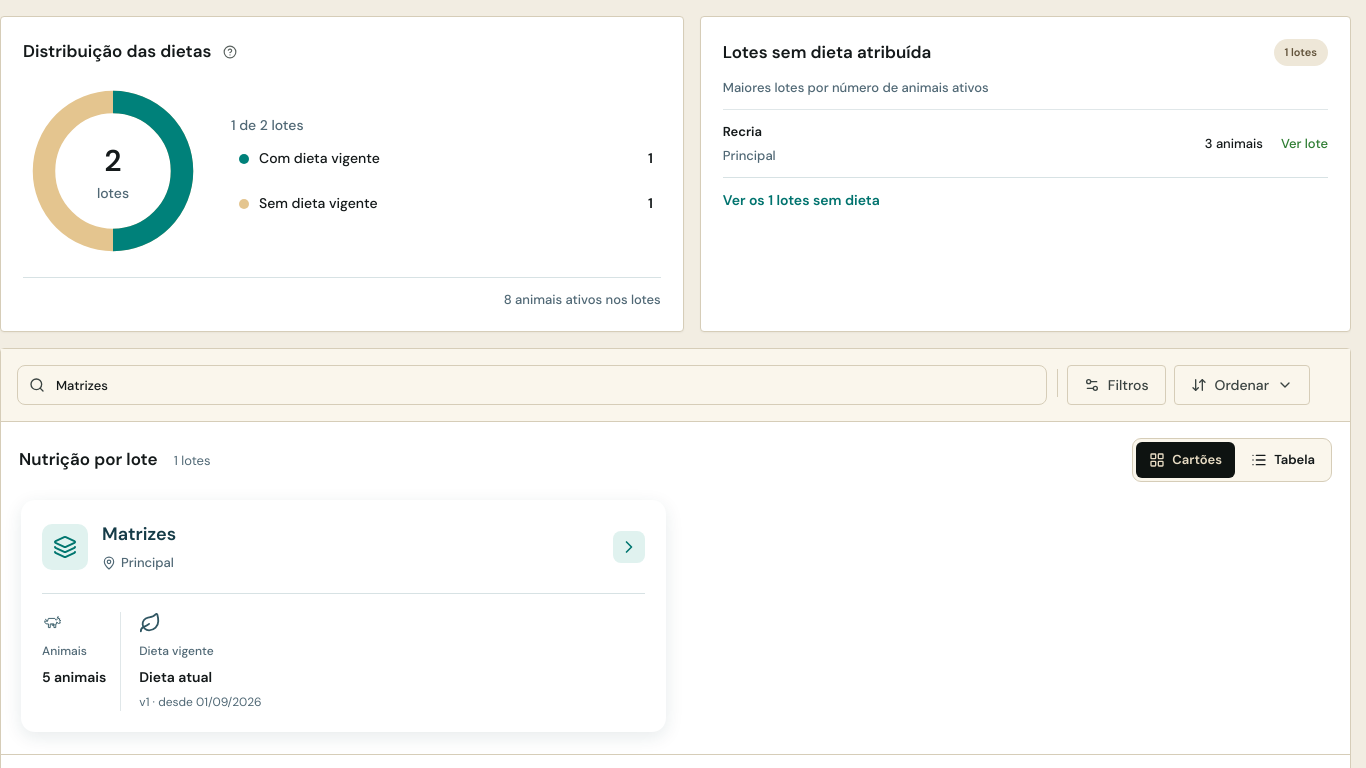
Test case: alterna cartões e tabela sem perder a busca e oculta custos sem permissão
This screenshot has width=1366, height=768.
Expected: the link "Matrizes" is shown, top-left (102, 522), bottom-right (176, 546)
Expected: the picture named "1 de 2 lotes com dieta vigente" is shown, top-left (23, 80), bottom-right (203, 260)
Step 1. Click the button "Tabela" → click(1283, 460), box top-left (1238, 442), bottom-right (1328, 478)
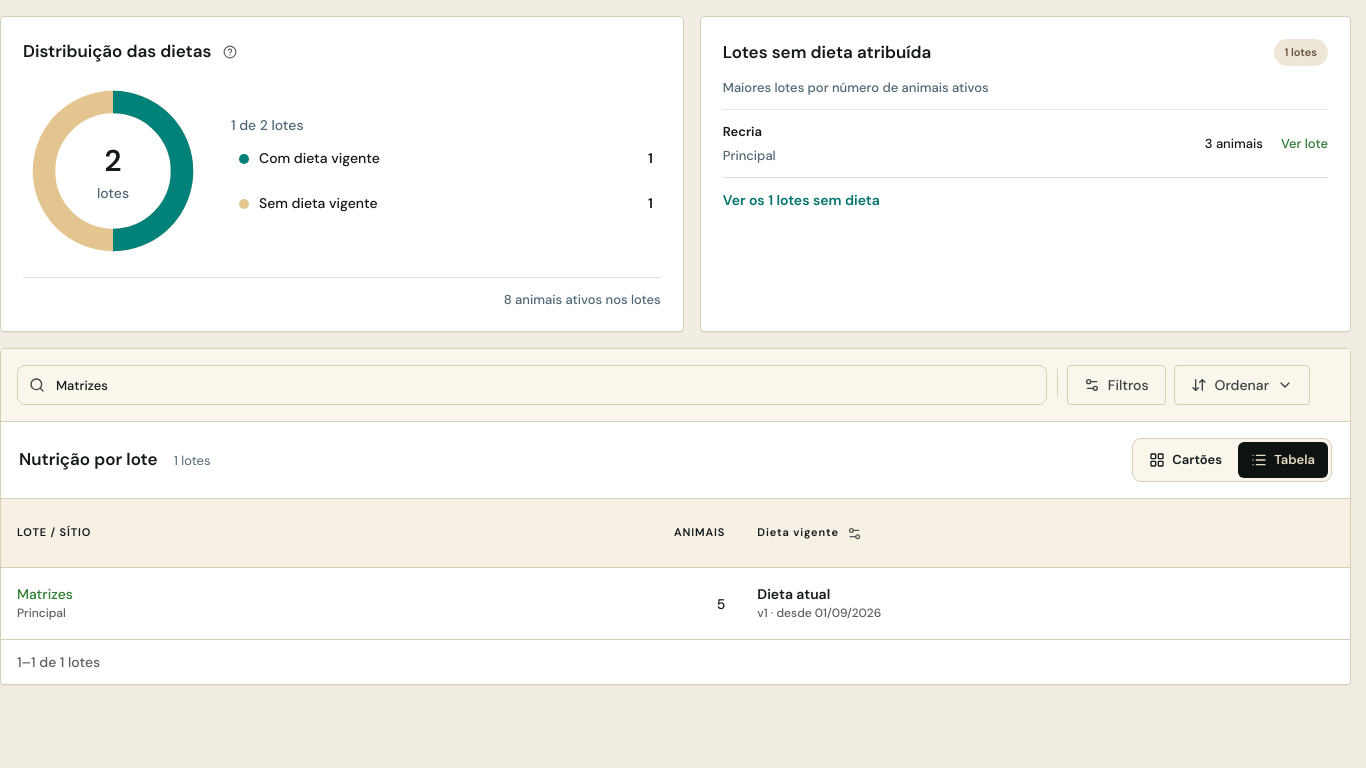
Expected: the link "Matrizes" is shown, top-left (17, 585), bottom-right (73, 603)
Expected: the table named "Nutrição por lote" is shown, top-left (1, 499), bottom-right (1350, 639)
